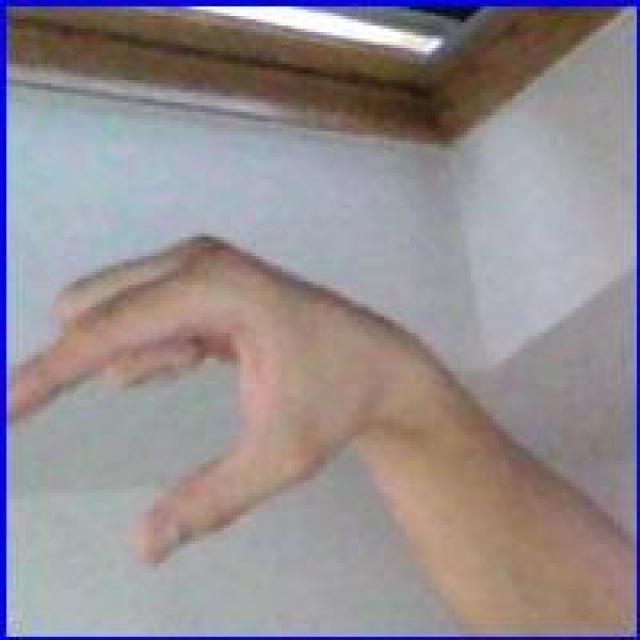Q: (9, 220, 438, 574)
